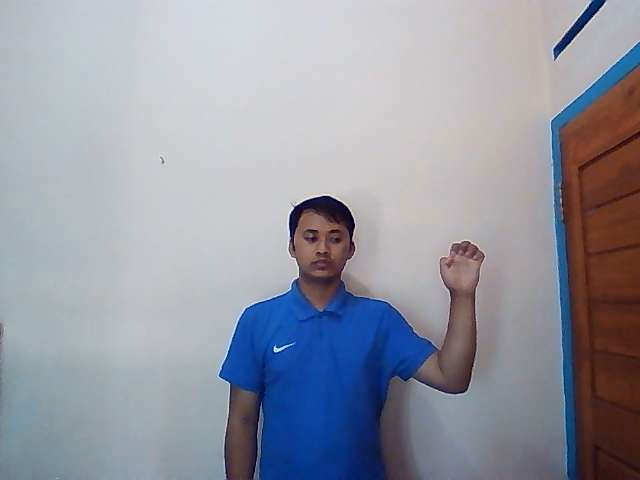E: (437, 240, 485, 294)
